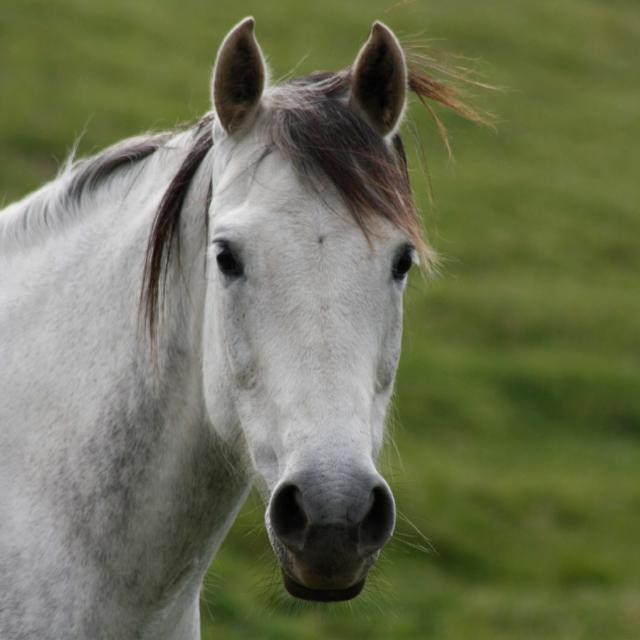Horse: (0, 2, 510, 639)
